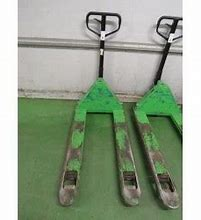Pallet Jack: (59, 10, 144, 212)
